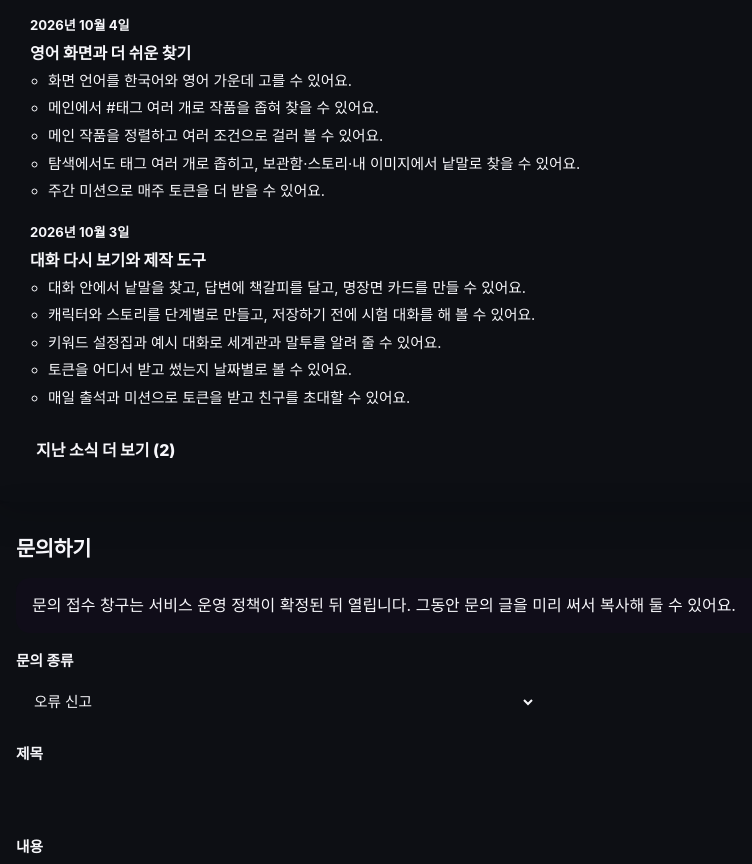
Test: 고객 지원의 업데이트 소식과 문의 초안 › 최근 소식 두 묶음을 보여 주고 더 보기로 지난 소식을 편다
(page scrolled)
Expected: the headings read "영어 화면과 더 쉬운 찾기", "대화 다시 보기와 제작 도구", in this order, [30,43,191,63]; [30,250,206,270]
Expected: the text "2026년 10월 4일" is shown, [30,17,130,33]
Click the button "지난 소식 더 보기 (2)" at (106, 449), box [16,426,196,472]
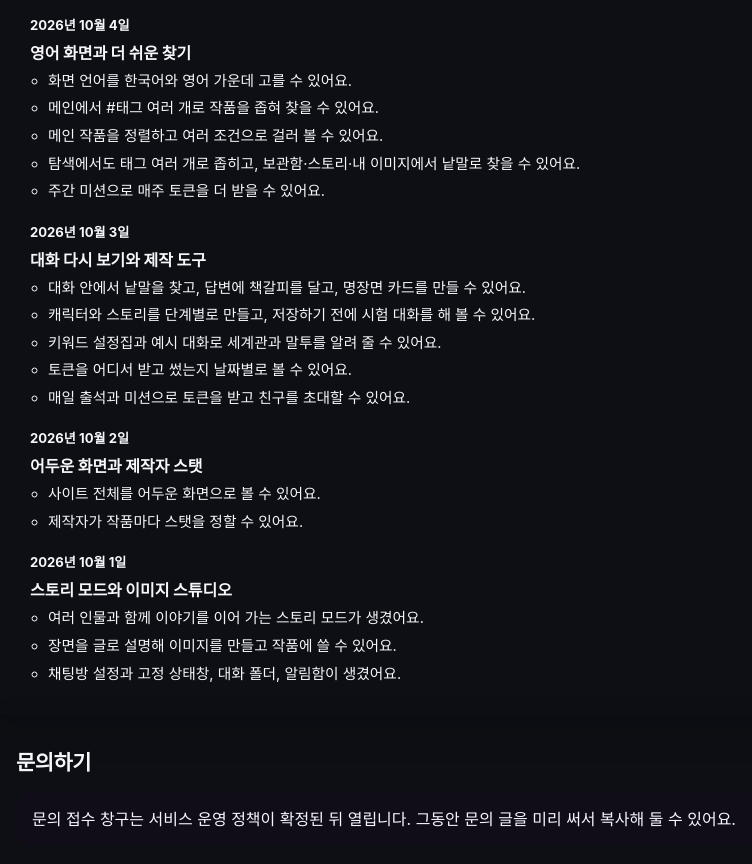
Expected: the button "지난 소식 더 보기" is gone
